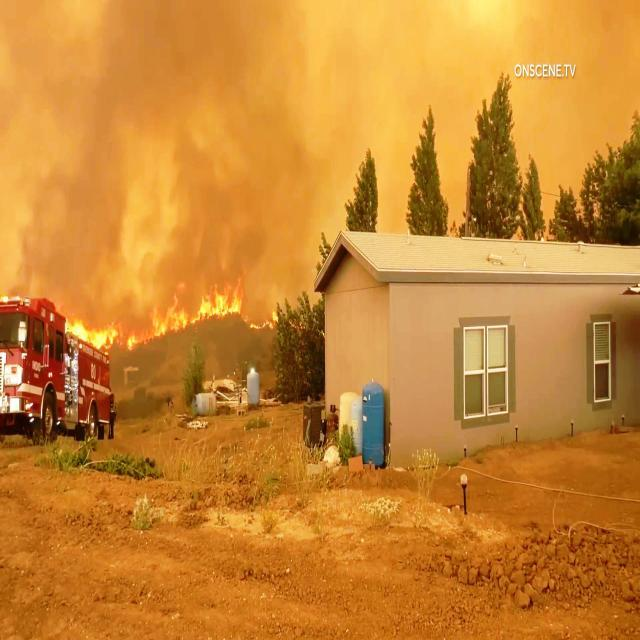Fire: (173, 276, 228, 344), (62, 285, 110, 353), (107, 296, 157, 361)
Smoke: (224, 126, 282, 282)
